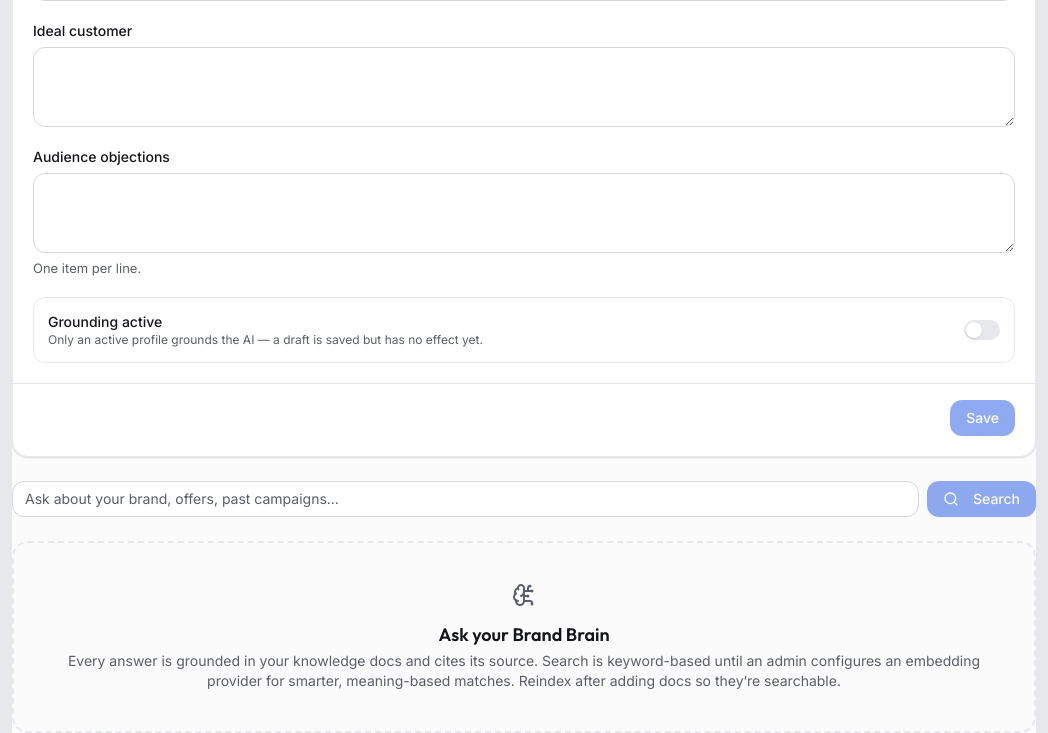
Test case: BrandBrainPage › renders cited results after a search
(page scrolled)
Type "implant price" into the field named "Brand Brain" at (466, 499), box [12, 481, 919, 517]
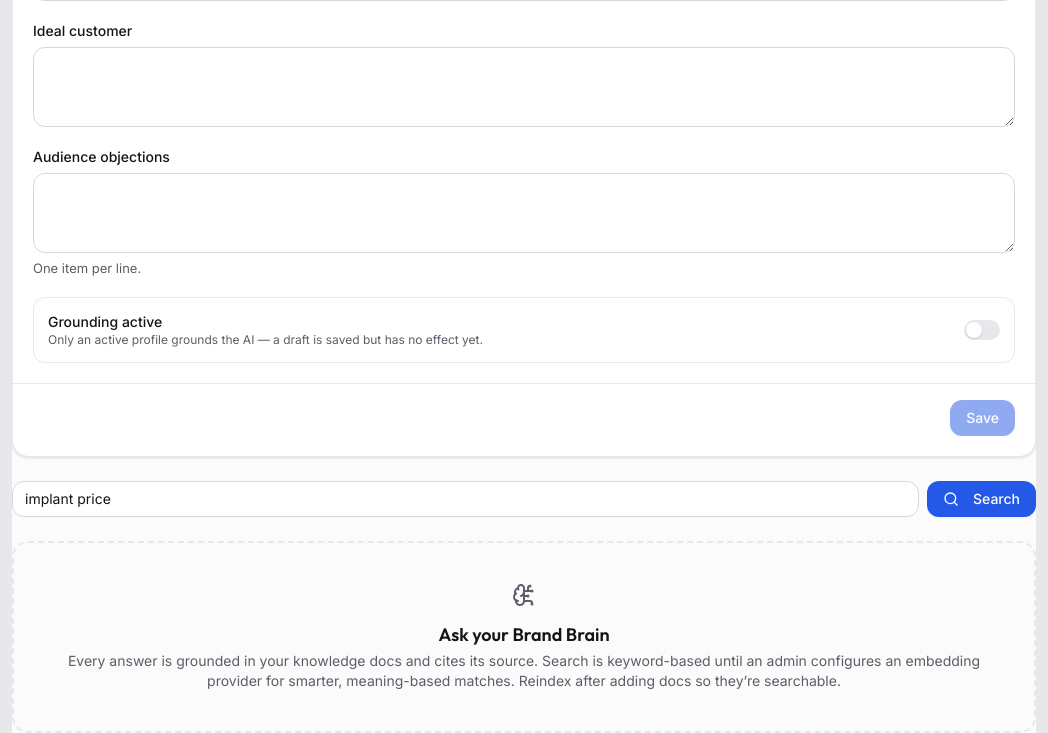
Click the button "Search" at (982, 499), box [927, 481, 1036, 517]
(page scrolled)
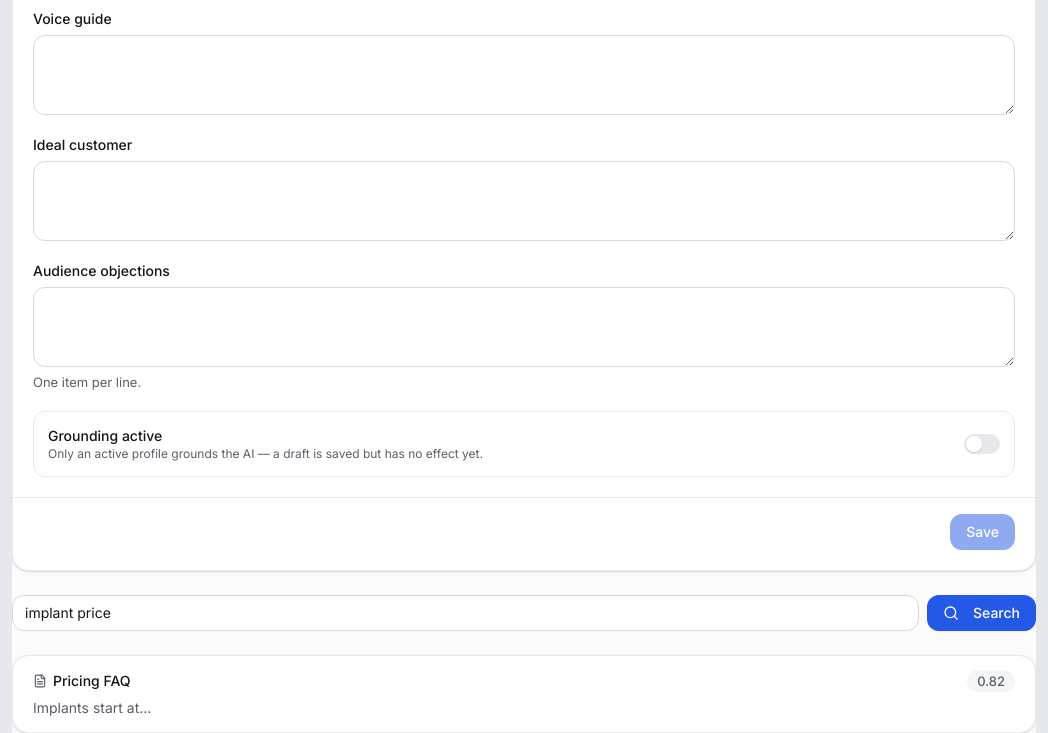
Expected: the text "Pricing FAQ" is shown, [33, 671, 131, 691]
Expected: the text "Implants start at…" is shown, [33, 699, 151, 716]
